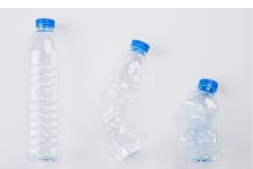Bottle: (99, 40, 149, 161), (26, 18, 62, 161), (176, 79, 222, 167)
